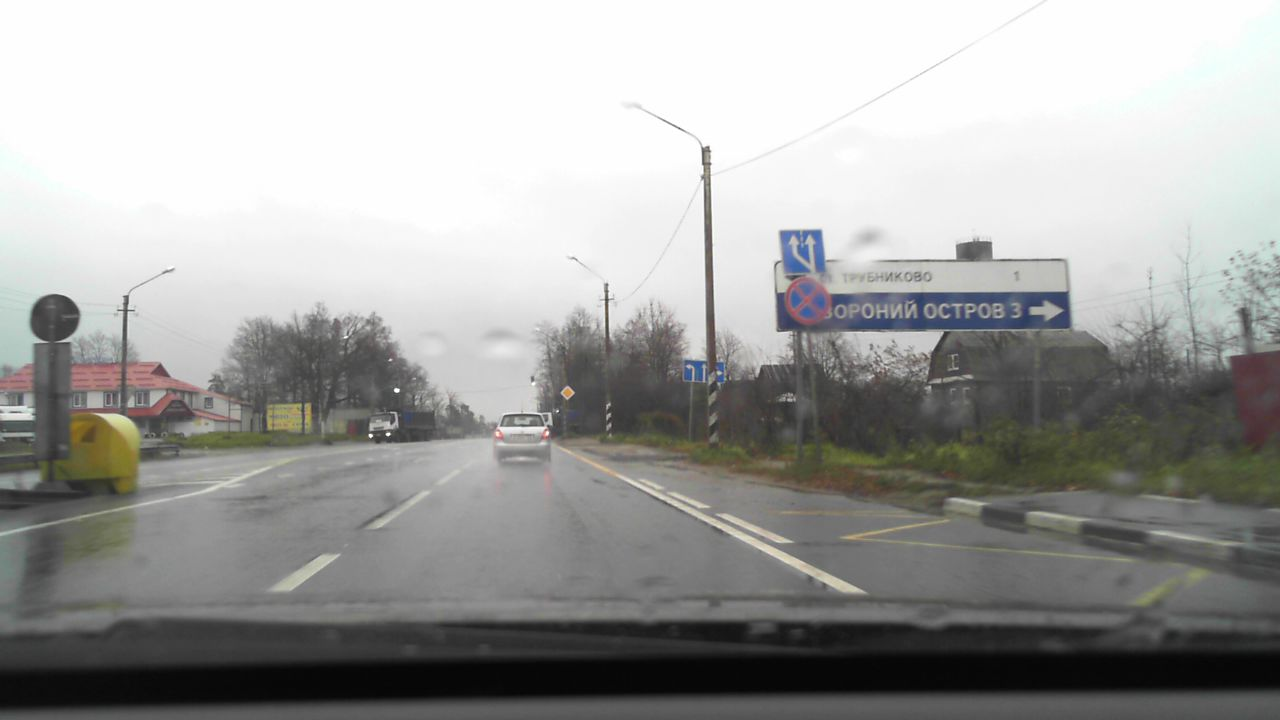No Parking: (785, 277, 831, 325)
